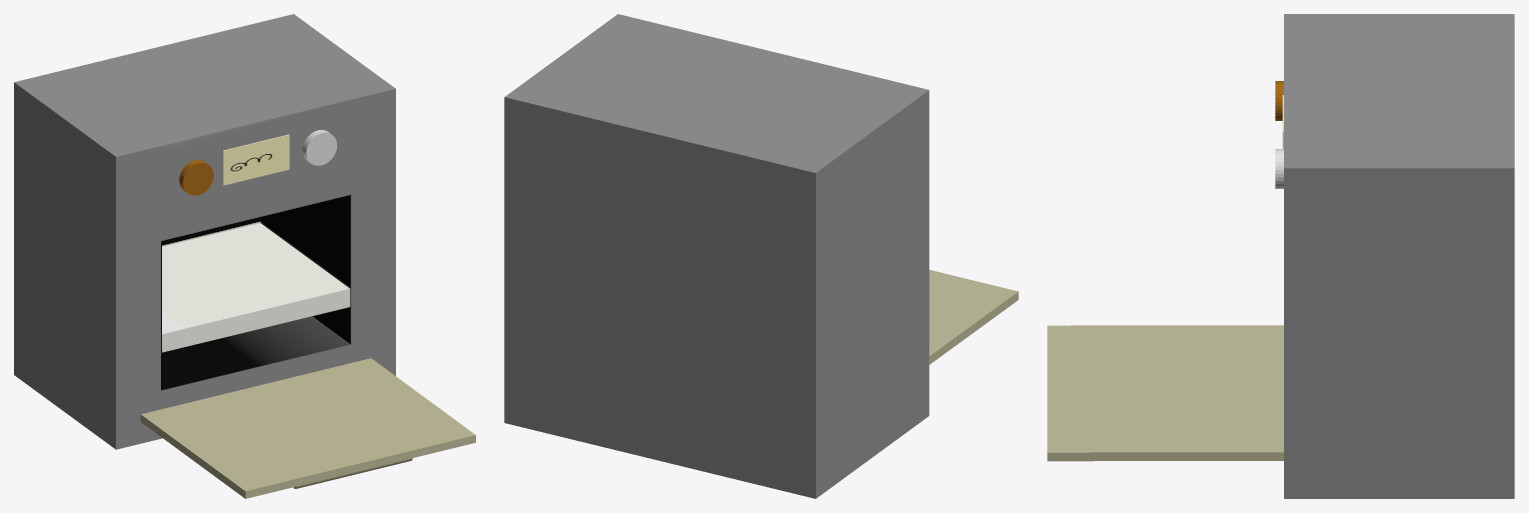
The model's file is horno.fbx.
3 views of the same model, side by side, from view 1: azimuth 30°, elevation 25°; view 2: azimuth 150°, elevation 25°; view 3: azimuth 270°, elevation 25° (orthographic). The views are drawn at different scales.
Visible parts, largest first — view 1: Cube, Cube.001, Cube.002, Cylinder.001, Cylinder.002; view 2: Cube, Cube.001; view 3: Cube, Cube.001.
Part boxes in pixels (bbox=[...]): Cube: bbox=[14, 14, 395, 449]; Cube.001: bbox=[140, 358, 475, 498]; Cube.002: bbox=[222, 134, 289, 185]; Cylinder.001: bbox=[179, 160, 213, 195]; Cylinder.002: bbox=[302, 130, 336, 165]; Cube: bbox=[504, 14, 929, 498]; Cube.001: bbox=[929, 270, 1018, 364]; Cube: bbox=[1284, 14, 1514, 498]; Cube.001: bbox=[1047, 325, 1283, 461].
Size of the model in its own units: 598 by 598 by 765.
